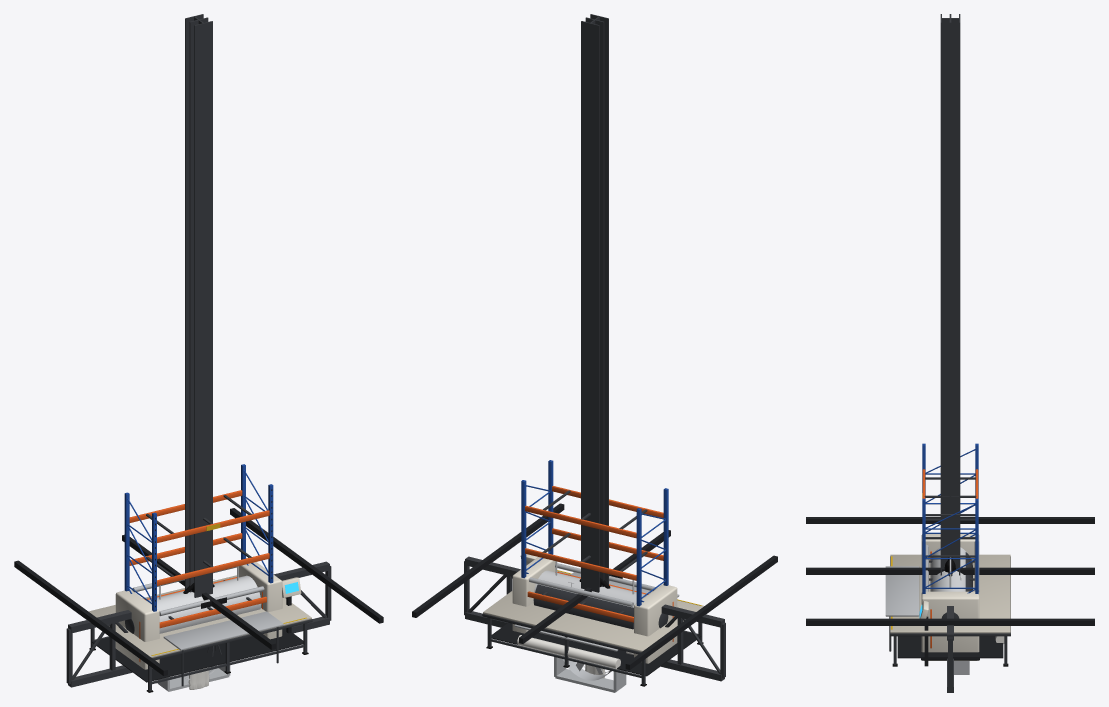
The model's file is factory_kit.glb.
The picture shows the model from 3 angles, left to right: view 1: azimuth 30°, elevation 25°; view 2: azimuth 150°, elevation 25°; view 3: azimuth 270°, elevation 25°; orthographic projection. The views are drawn at different scales.
Visible parts, largest first — view 1: column, calender, truss, cut_table, roll_rack, wall_fan; view 2: column, calender, truss, cut_table, roll_rack, wall_fan; view 3: column, truss, calender, cut_table, roll_rack.
Boxes of the visible parts, box(x1,y1,x2,y2) form: column: box(185, 14, 212, 597); calender: box(115, 562, 301, 686); truss: box(14, 508, 383, 687); cut_table: box(88, 575, 312, 692); roll_rack: box(124, 464, 273, 628); wall_fan: box(157, 663, 230, 691); column: box(581, 14, 608, 592); calender: box(512, 554, 679, 669); truss: box(412, 503, 777, 681); cut_table: box(482, 570, 703, 686); roll_rack: box(521, 460, 668, 622); wall_fan: box(554, 657, 626, 692); column: box(940, 14, 960, 575); truss: box(806, 517, 1094, 692); calender: box(885, 534, 1004, 666); cut_table: box(890, 554, 1010, 666); roll_rack: box(922, 443, 978, 593).
Bounding box in the file's own units: 6.08 × 14.82 × 6.
